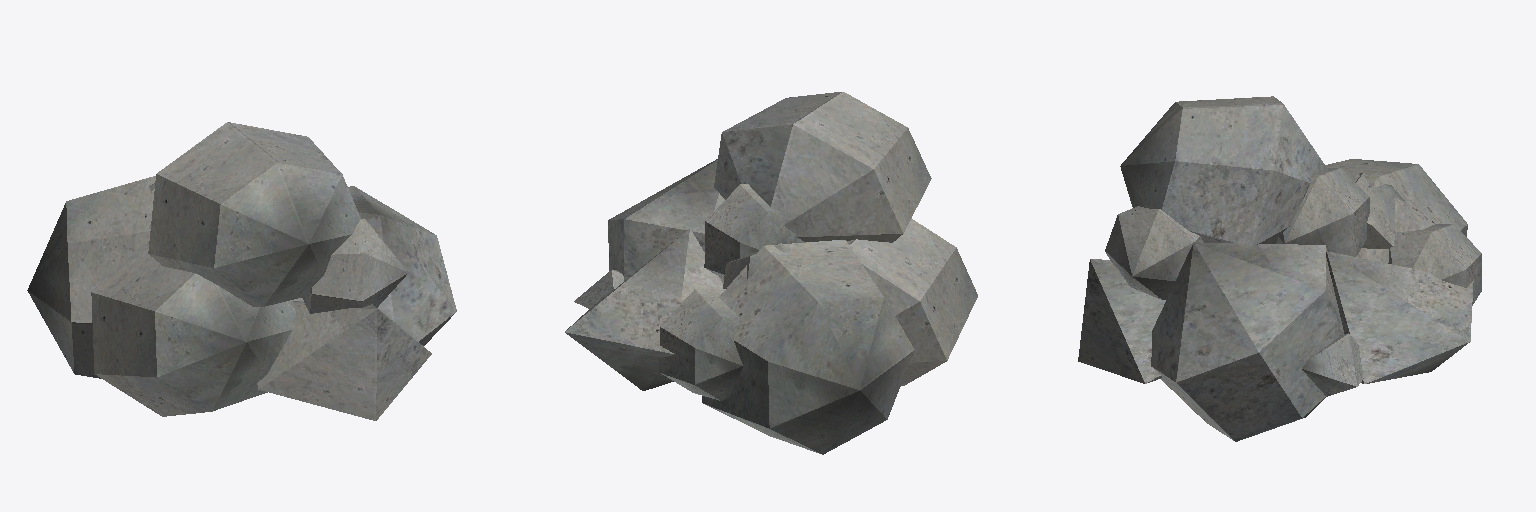
The picture shows the model from 3 angles: view 1: azimuth 30°, elevation 25°; view 2: azimuth 150°, elevation 25°; view 3: azimuth 270°, elevation 25°; orthographic projection.
Visible parts, largest first — view 1: Sphere011; view 2: Sphere011; view 3: Sphere011.
Boxes of the visible parts, box(x1,y1,x2,y2) form: Sphere011: box(27, 122, 456, 420); Sphere011: box(565, 92, 977, 454); Sphere011: box(1078, 96, 1481, 441).
Bounding box in the file's own units: 87.07 × 68.06 × 89.36.
Materials: 1 (1 with a texture image).